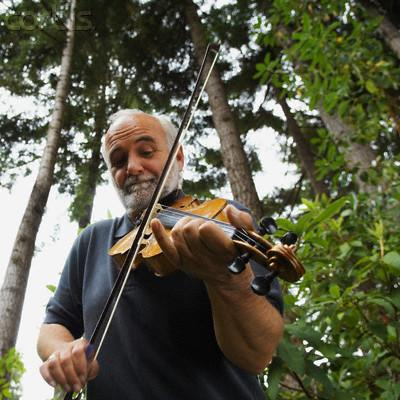person: (37, 110, 286, 400)
